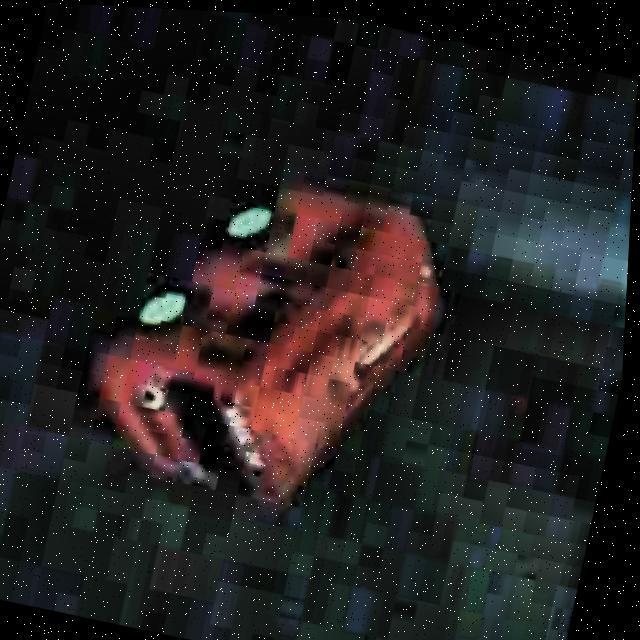bus: (64, 139, 471, 546)
